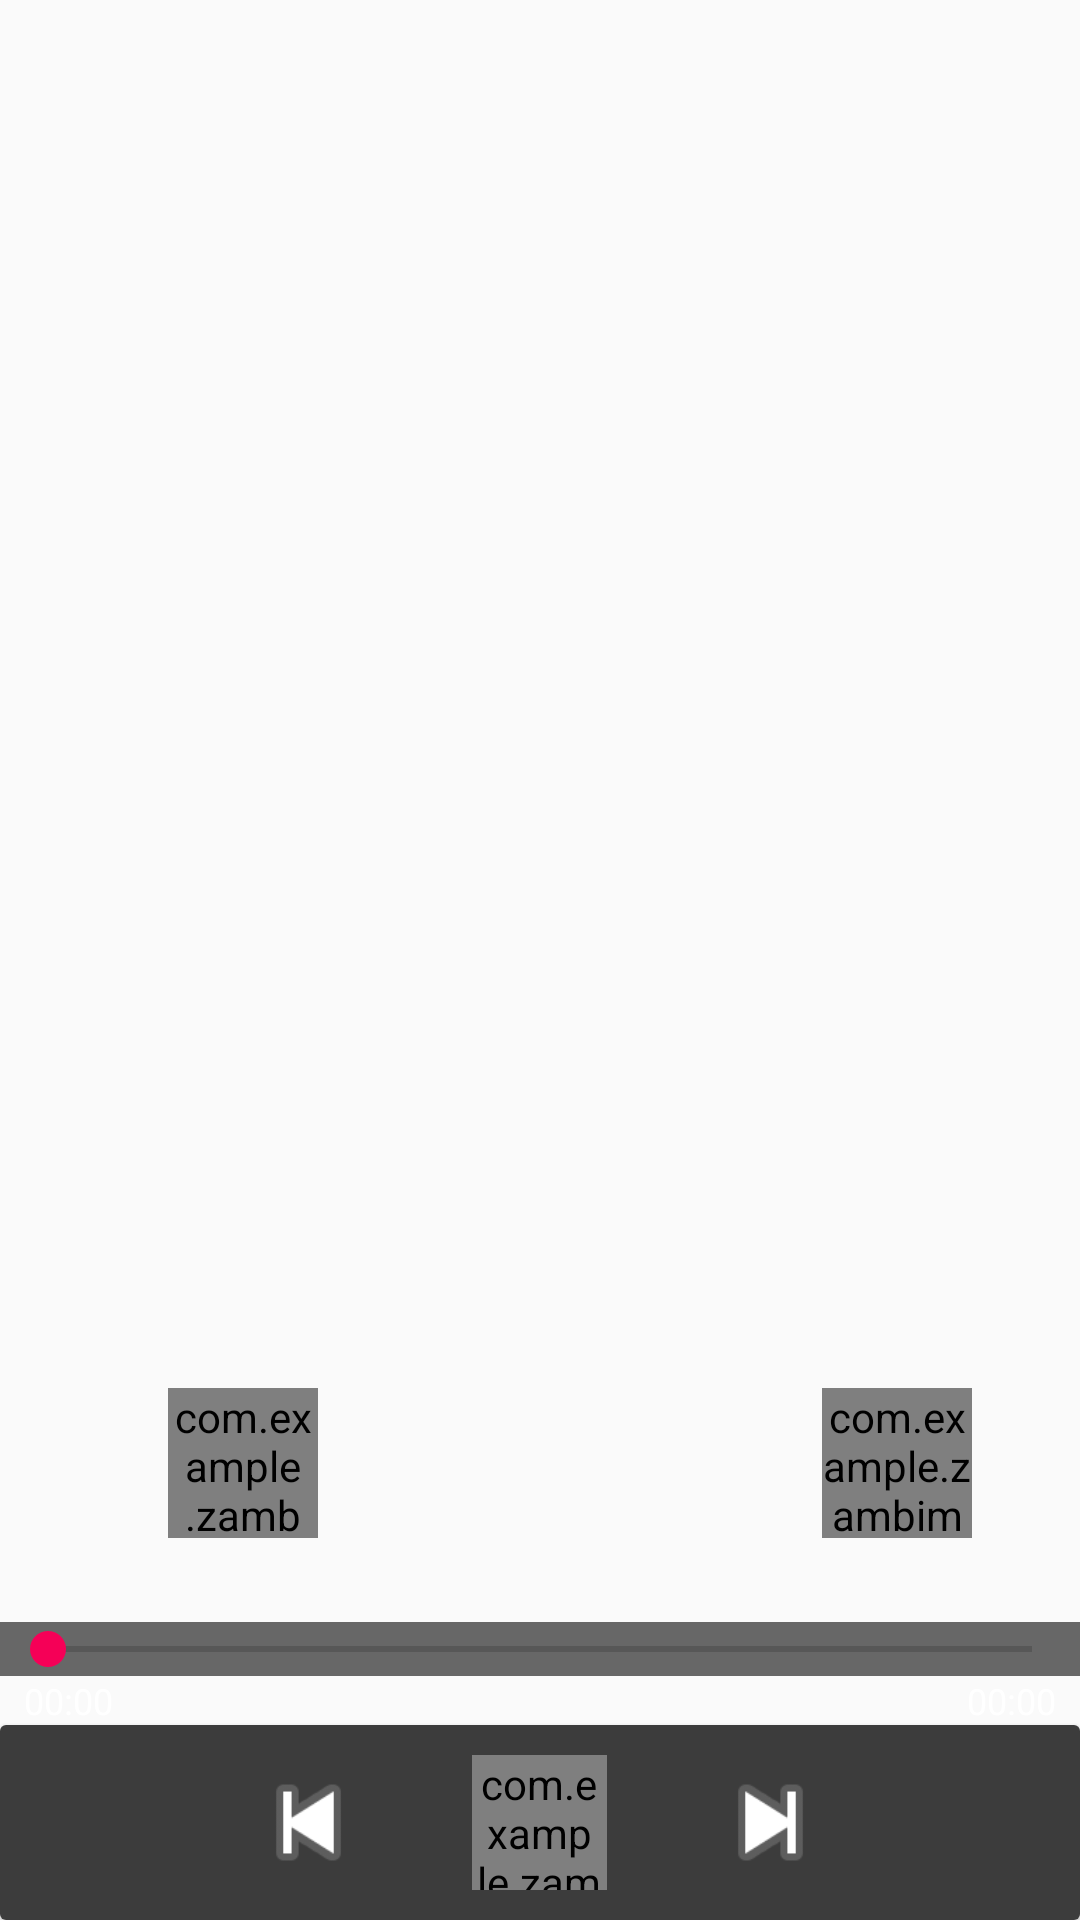

Point at icon controls on the screen. Image size 1080x1920, points as (x,y).
next: (770,1822)
previous: (308,1822)
